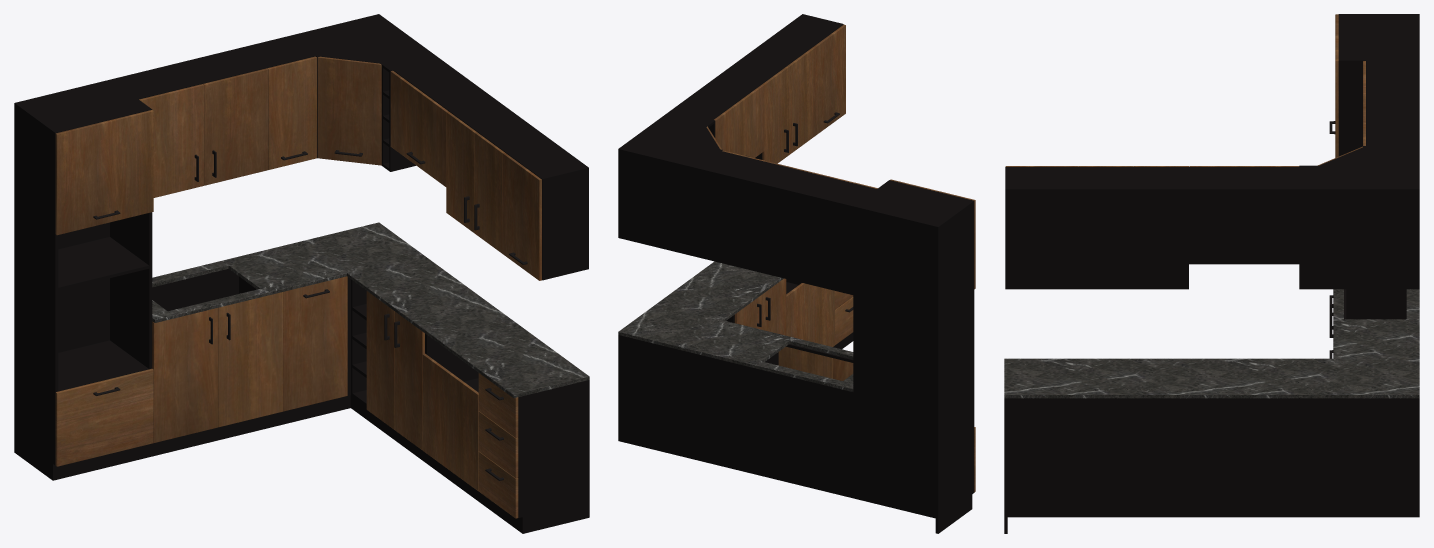
The model's file is kitchen.glb.
3 renders of one model, left to right at view 1: azimuth 30°, elevation 25°; view 2: azimuth 150°, elevation 25°; view 3: azimuth 270°, elevation 25°, orthographic. The views are drawn at different scales.
Visible parts, largest first — view 1: Object_4, Object_5, Object_2, Object_3; view 2: Object_5, Object_4, Object_2, Object_3; view 3: Object_5, Object_2, Object_4.
Part boxes in pixels (left/top/right/bottom): Object_4: left=55, top=56, right=541, bottom=518; Object_5: left=14, top=14, right=589, bottom=533; Object_2: left=152, top=222, right=589, bottom=398; Object_3: left=93, top=150, right=527, bottom=480; Object_5: left=618, top=14, right=974, bottom=533; Object_4: left=706, top=24, right=975, bottom=492; Object_2: left=618, top=261, right=853, bottom=391; Object_3: left=746, top=112, right=853, bottom=326; Object_5: left=1004, top=14, right=1419, bottom=533; Object_2: left=1004, top=289, right=1419, bottom=398; Object_4: left=1005, top=14, right=1365, bottom=166.
Size of the model in its own units: 2.26 by 2.07 by 2.26.
4 materials, 2 textured.
